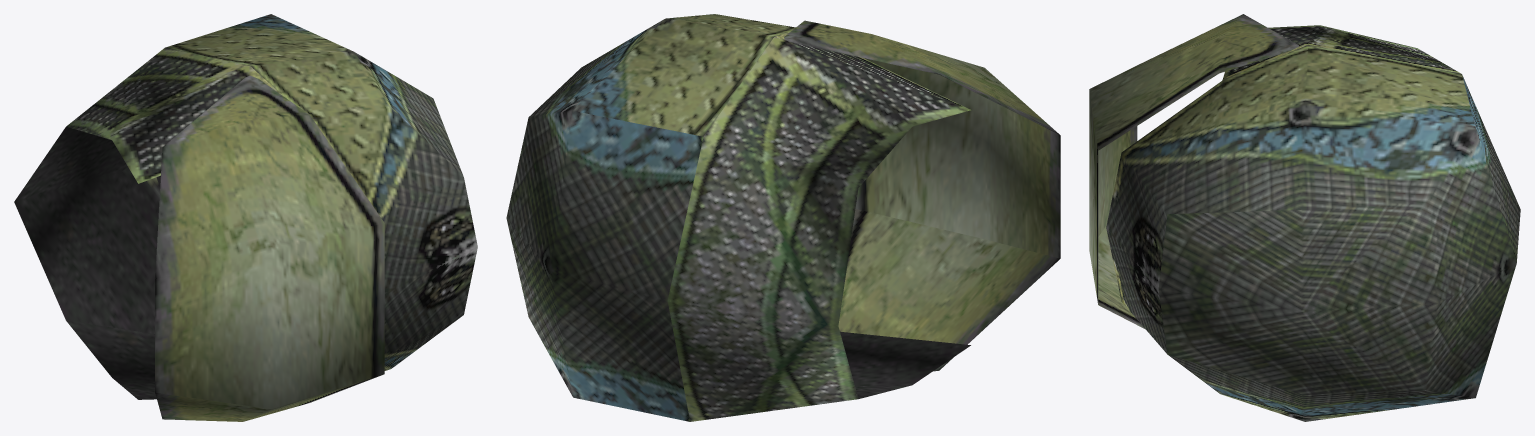
Rendered from Helmet6__MOB.glb.
3 renders of one model, left to right at view 1: azimuth 30°, elevation 25°; view 2: azimuth 150°, elevation 25°; view 3: azimuth 270°, elevation 25°, orthographic. The views are drawn at different scales.
Visible parts, largest first — view 1: Helmet6; view 2: Helmet6; view 3: Helmet6.
Part boxes in pixels (box(x1,y1,x2,y2)): Helmet6: box(14, 14, 477, 421); Helmet6: box(506, 14, 1060, 421); Helmet6: box(1089, 14, 1520, 421).
Size of the model in its own units: 13.81 by 11.5 by 13.39.
Materials: 1 (1 with a texture image).
